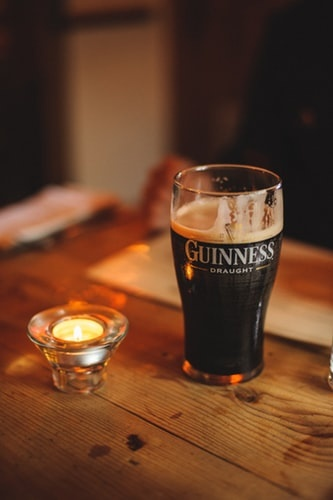whiskey: (167, 170, 284, 387)
